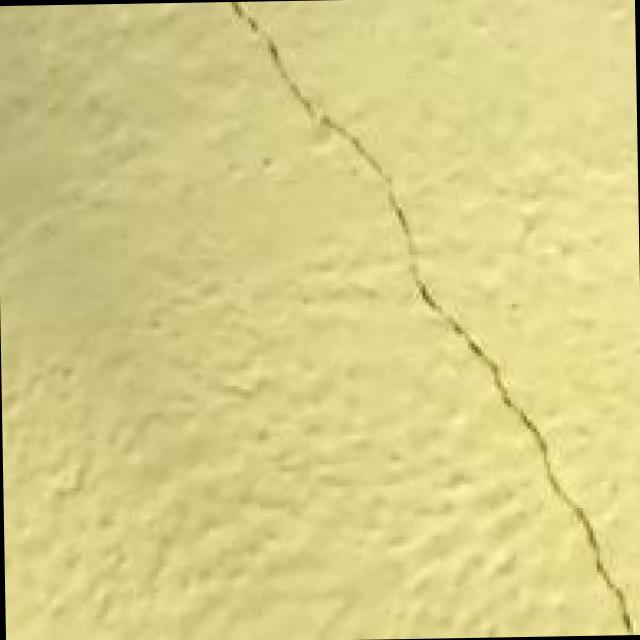crack: (225, 7, 640, 638)
